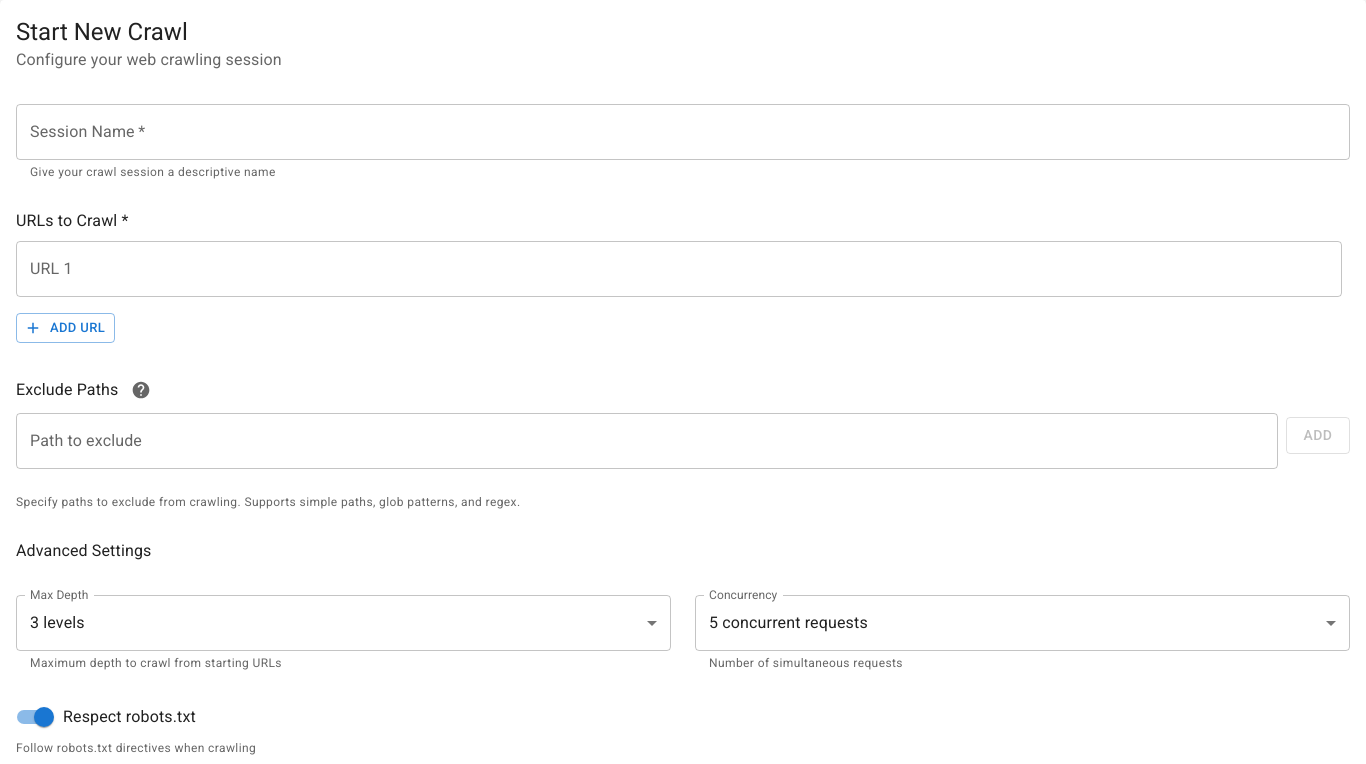
Test: CrawlForm - Path Exclusion Features › Exclusion Path Management › should add exclusion paths
Type "/admin" into the field labelled "Path to exclude".
click(647, 441); type("/admin")  # box top-left (16, 413), bottom-right (1278, 469)
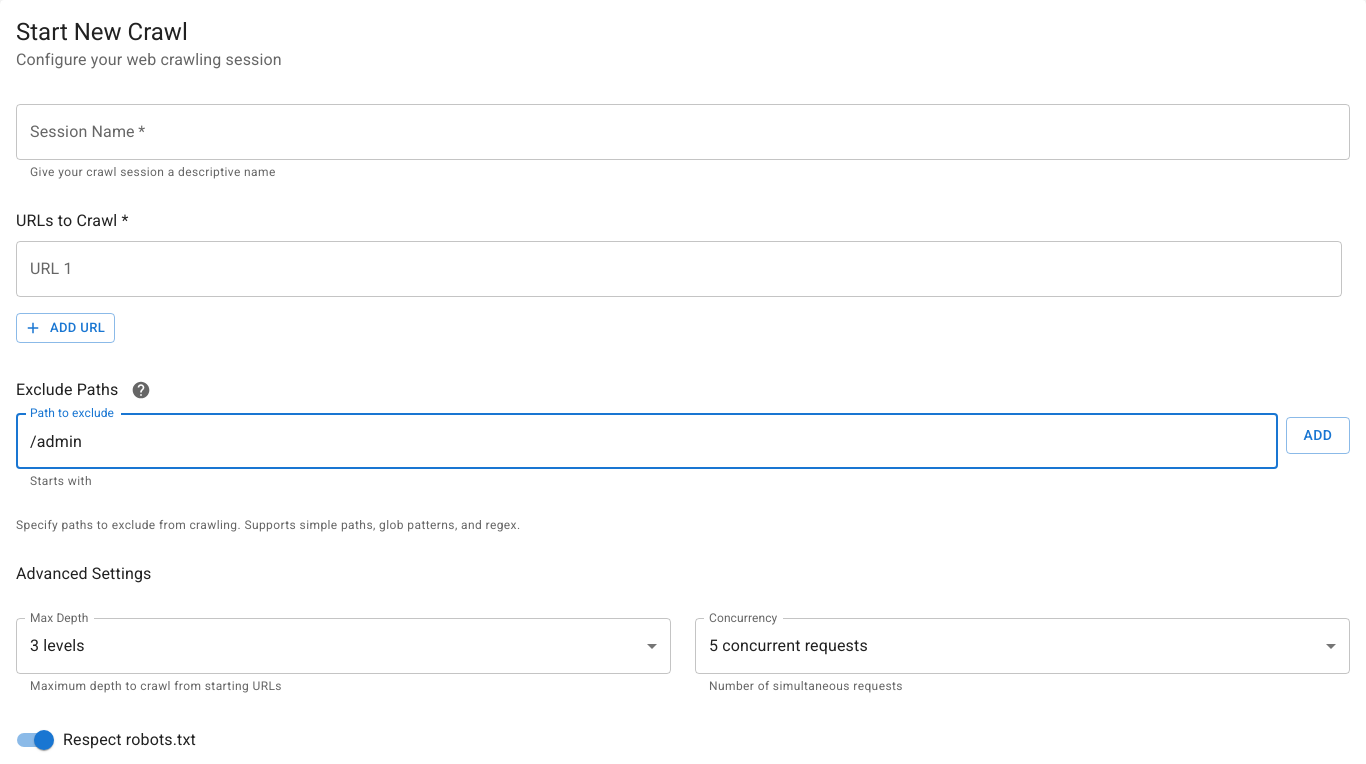
Click the button "Add".
click(1318, 436)  # box top-left (1286, 417), bottom-right (1350, 454)
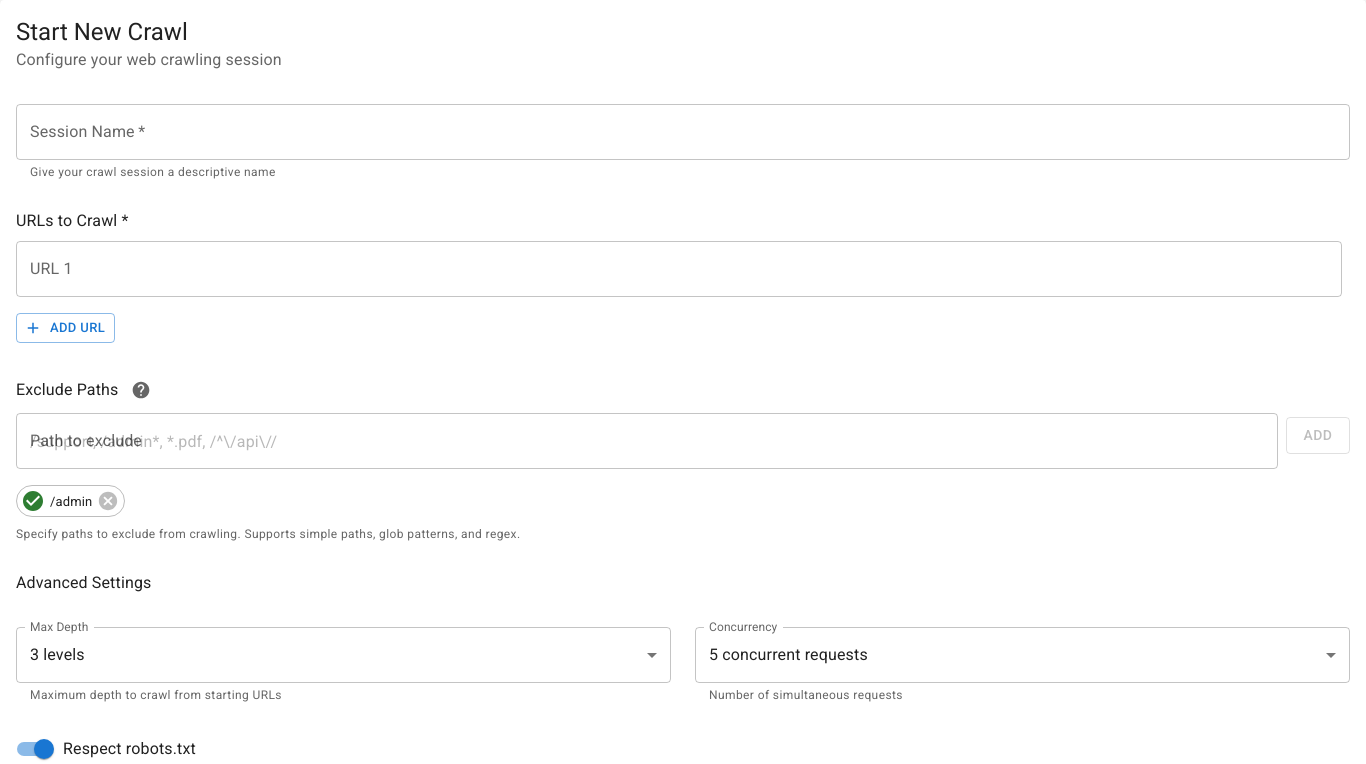
Expected: the text "/admin" is shown, top-left (50, 494), bottom-right (92, 508)
Expected: the field labelled "Path to exclude" is empty, top-left (16, 413), bottom-right (1278, 469)
